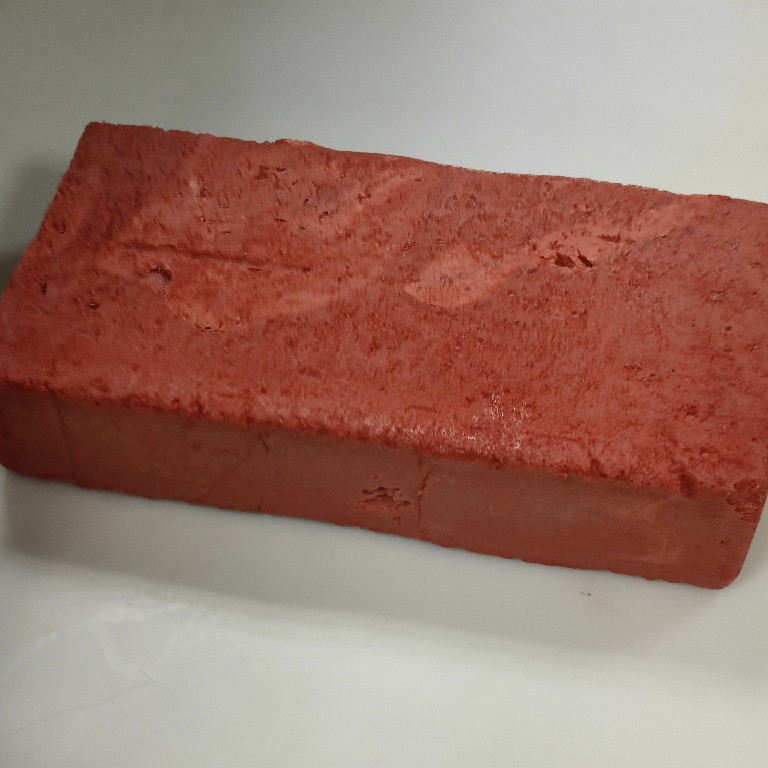brick: (1, 115, 768, 593)
